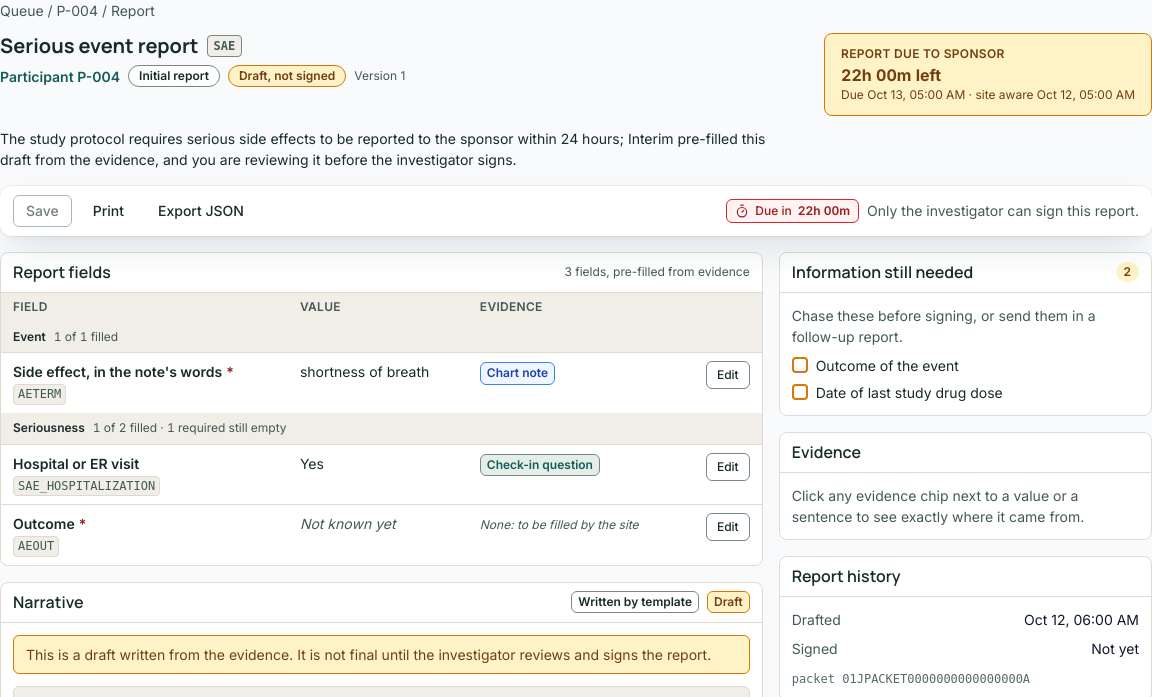
Test: PacketPage: editing and saving › stages field edits and saves them in one versioned PATCH
Expected: the button "Save" is disabled, [13,195,72,227]
Expected: the text "Only the investigator can sign this report." is shown, [867,200,1139,221]
Click the button with aria-label "Edit Outcome" at (728,527), box [706,513,750,541]
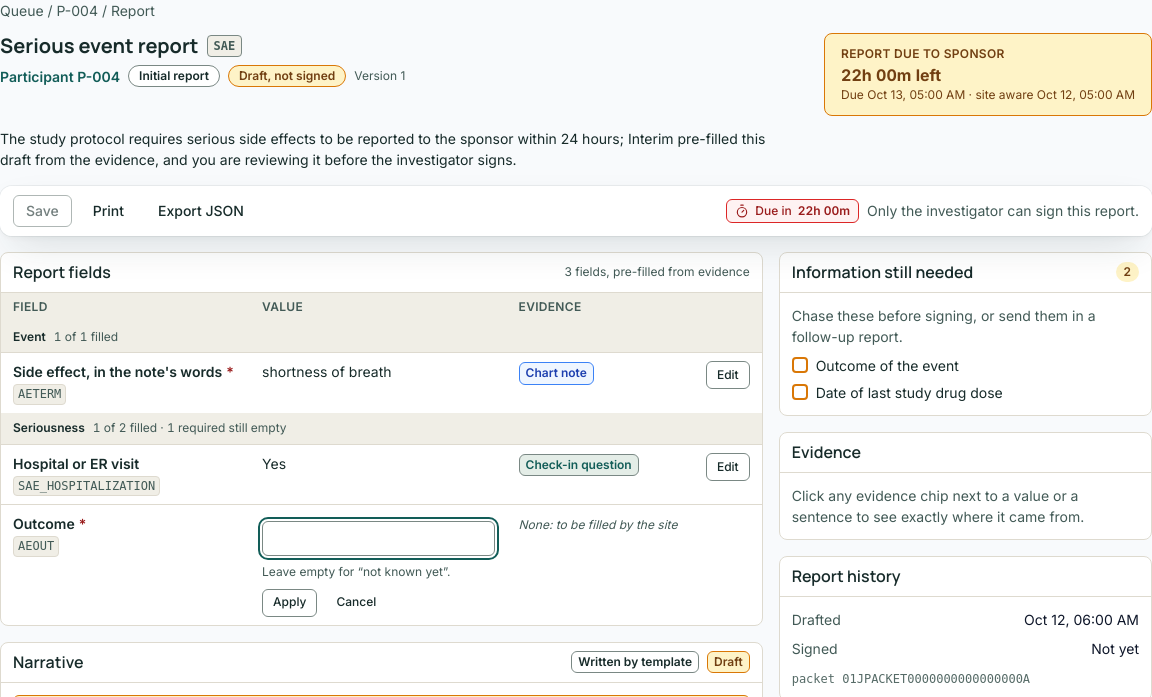
Type "Recovering" into the field named "New value for Outcome" at (378,539), box [262,521,495,556]
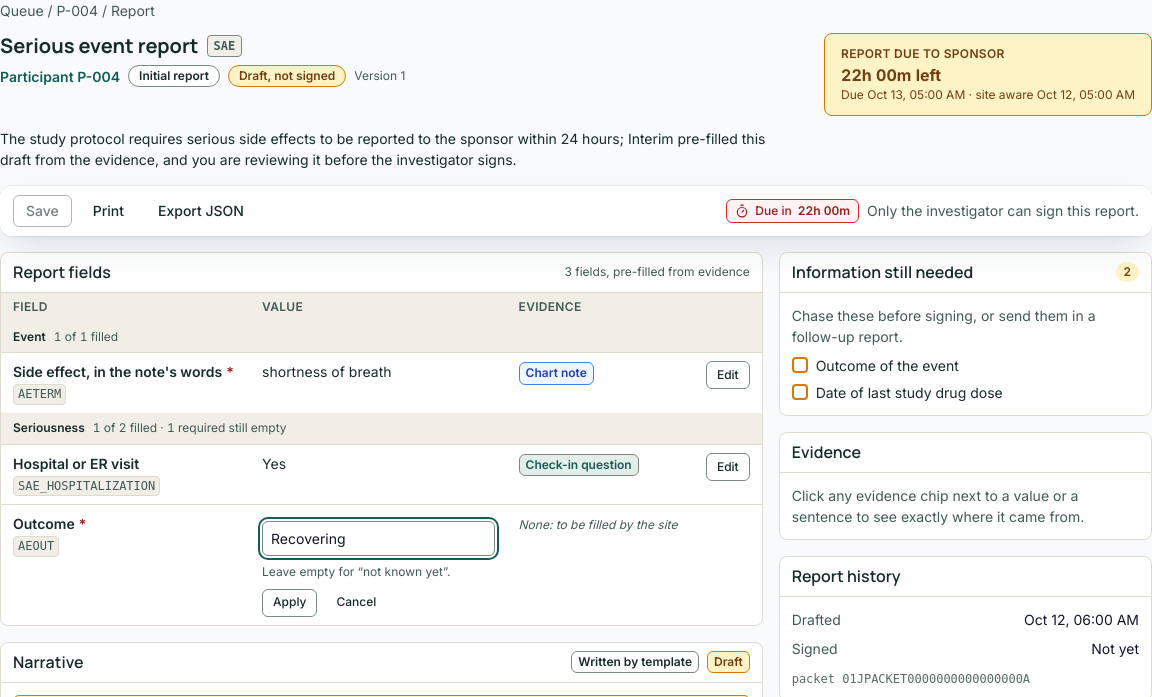
Click the button "Apply" at (290,602), box [262,588,318,616]
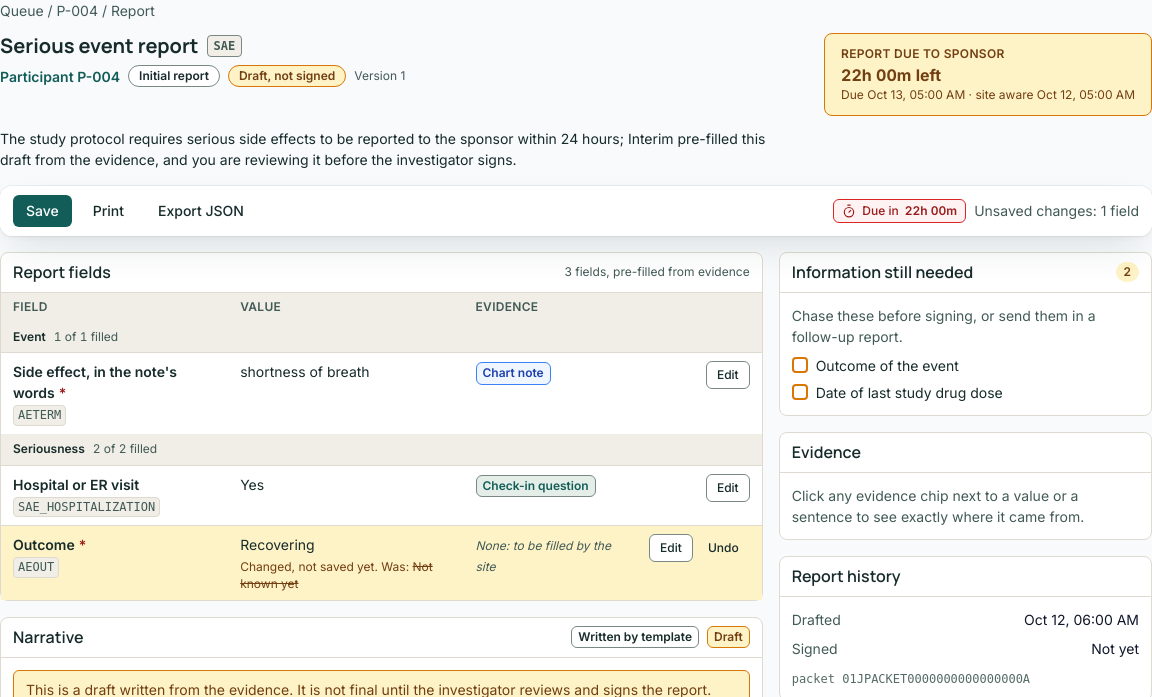
Result: the text "Changed, not saved yet. Was: Not known yet" is shown at [240,559,452,592]
Result: the text "Unsaved changes: 1 field" is shown at [974,200,1139,221]
Click the button "Save" at (42,211), box [13,195,72,227]
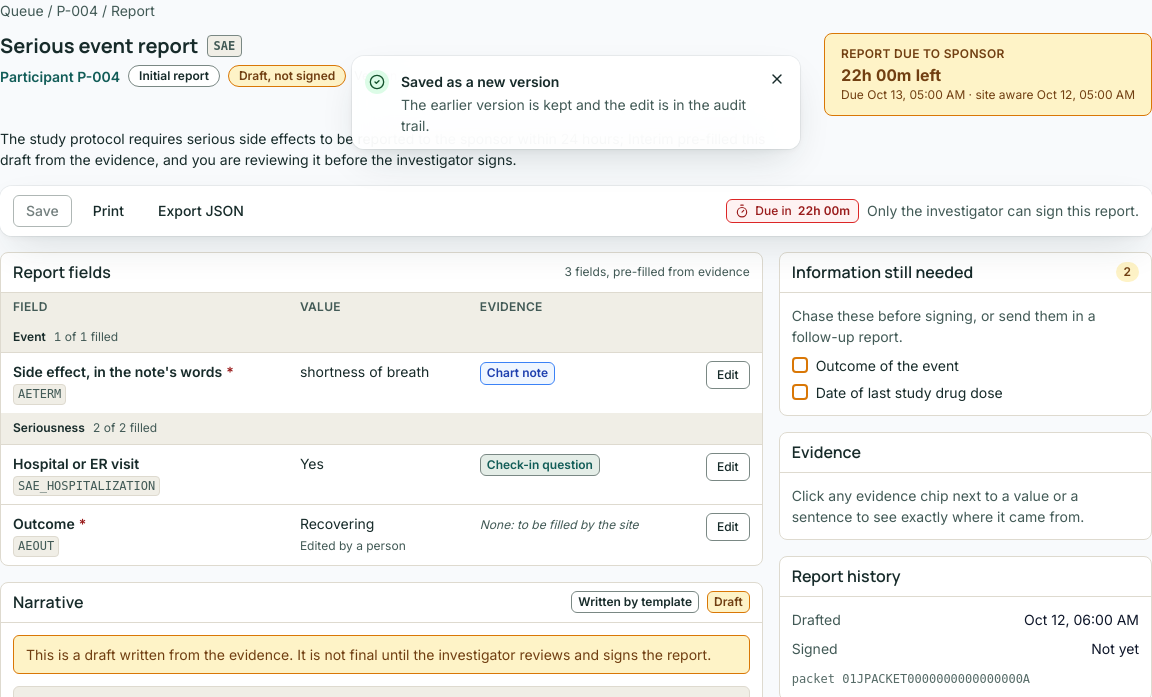
Result: the text "Version 2" is shown at [354,68,408,84]
Result: the text "Edited by a person" is shown at [300,538,406,553]
Result: the text "Changed, not saved yet" is gone
